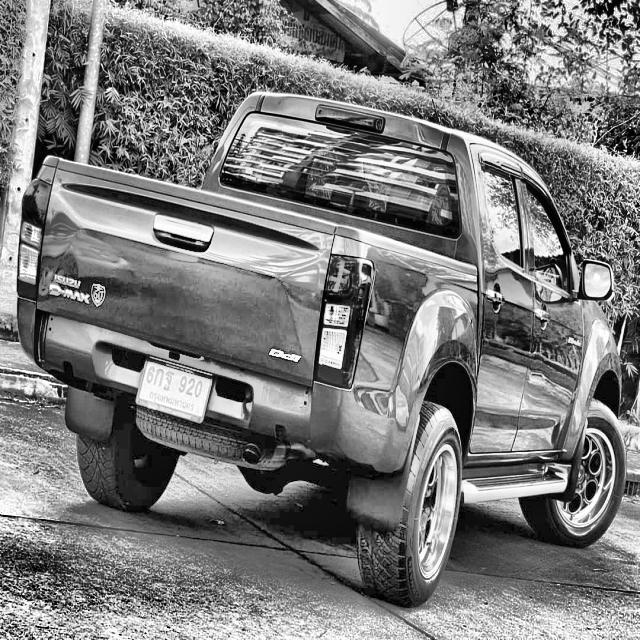license-plate: (136, 350, 214, 428)
